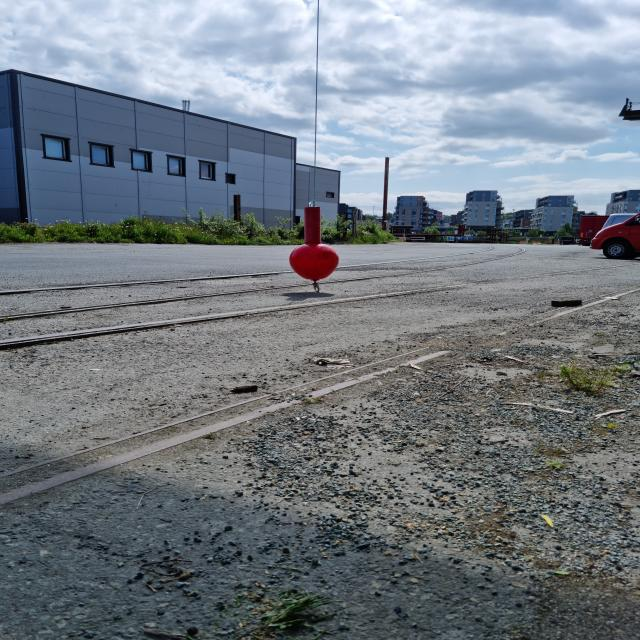red: (290, 207, 339, 281)
